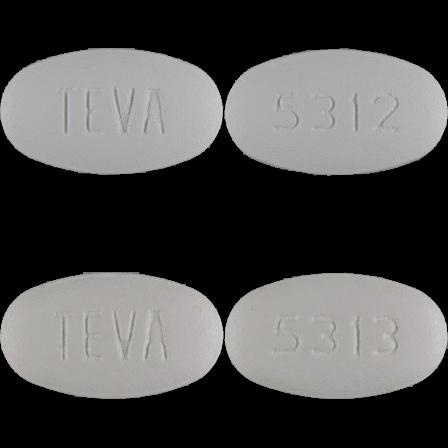0172-5312: (0, 0, 224, 224)
